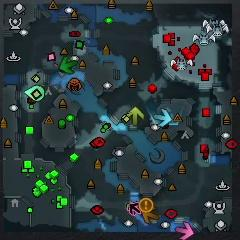Other: (140, 198, 153, 213)
p2: (25, 86, 45, 100)
x1: (176, 222, 194, 240)
x1Clone: (129, 202, 140, 214), (127, 205, 137, 216)
x2: (127, 107, 144, 124)
x3: (154, 108, 172, 127)
x4: (60, 57, 78, 74)
x5: (142, 206, 159, 223)
